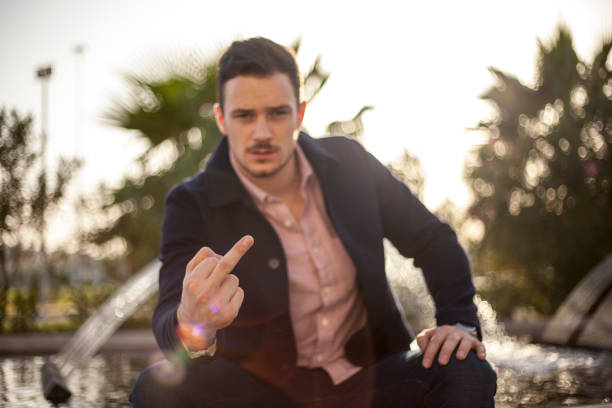insulting_gesture: (180, 236, 257, 328)
